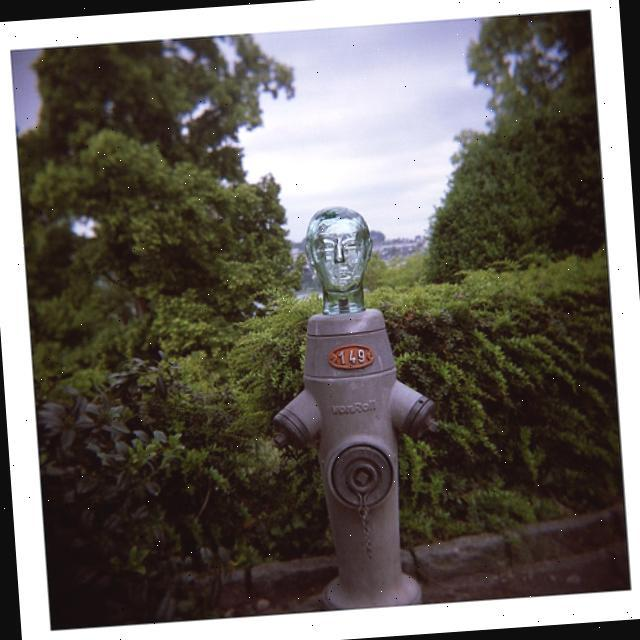fire_hydrant: (262, 287, 448, 628)
